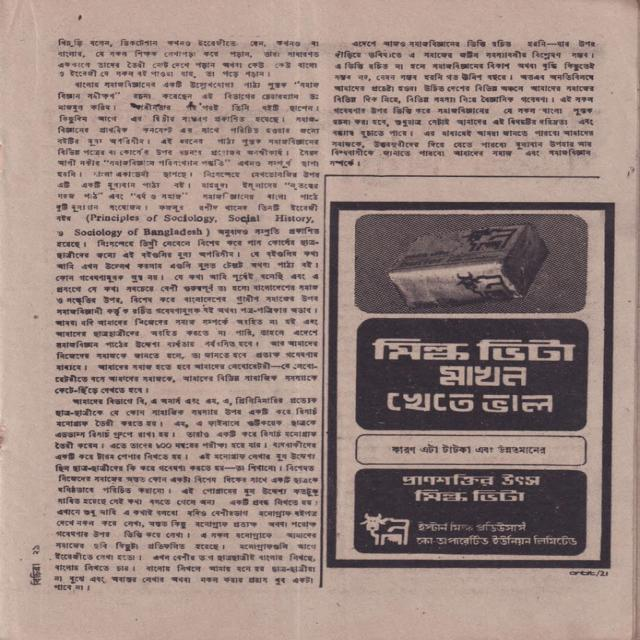advertisement: (331, 200, 613, 568)
page number: (30, 543, 43, 555)
paragraph: (52, 81, 322, 395), (51, 395, 319, 593), (327, 38, 598, 170), (56, 38, 321, 78)
text: (28, 562, 43, 587), (568, 570, 609, 577)
